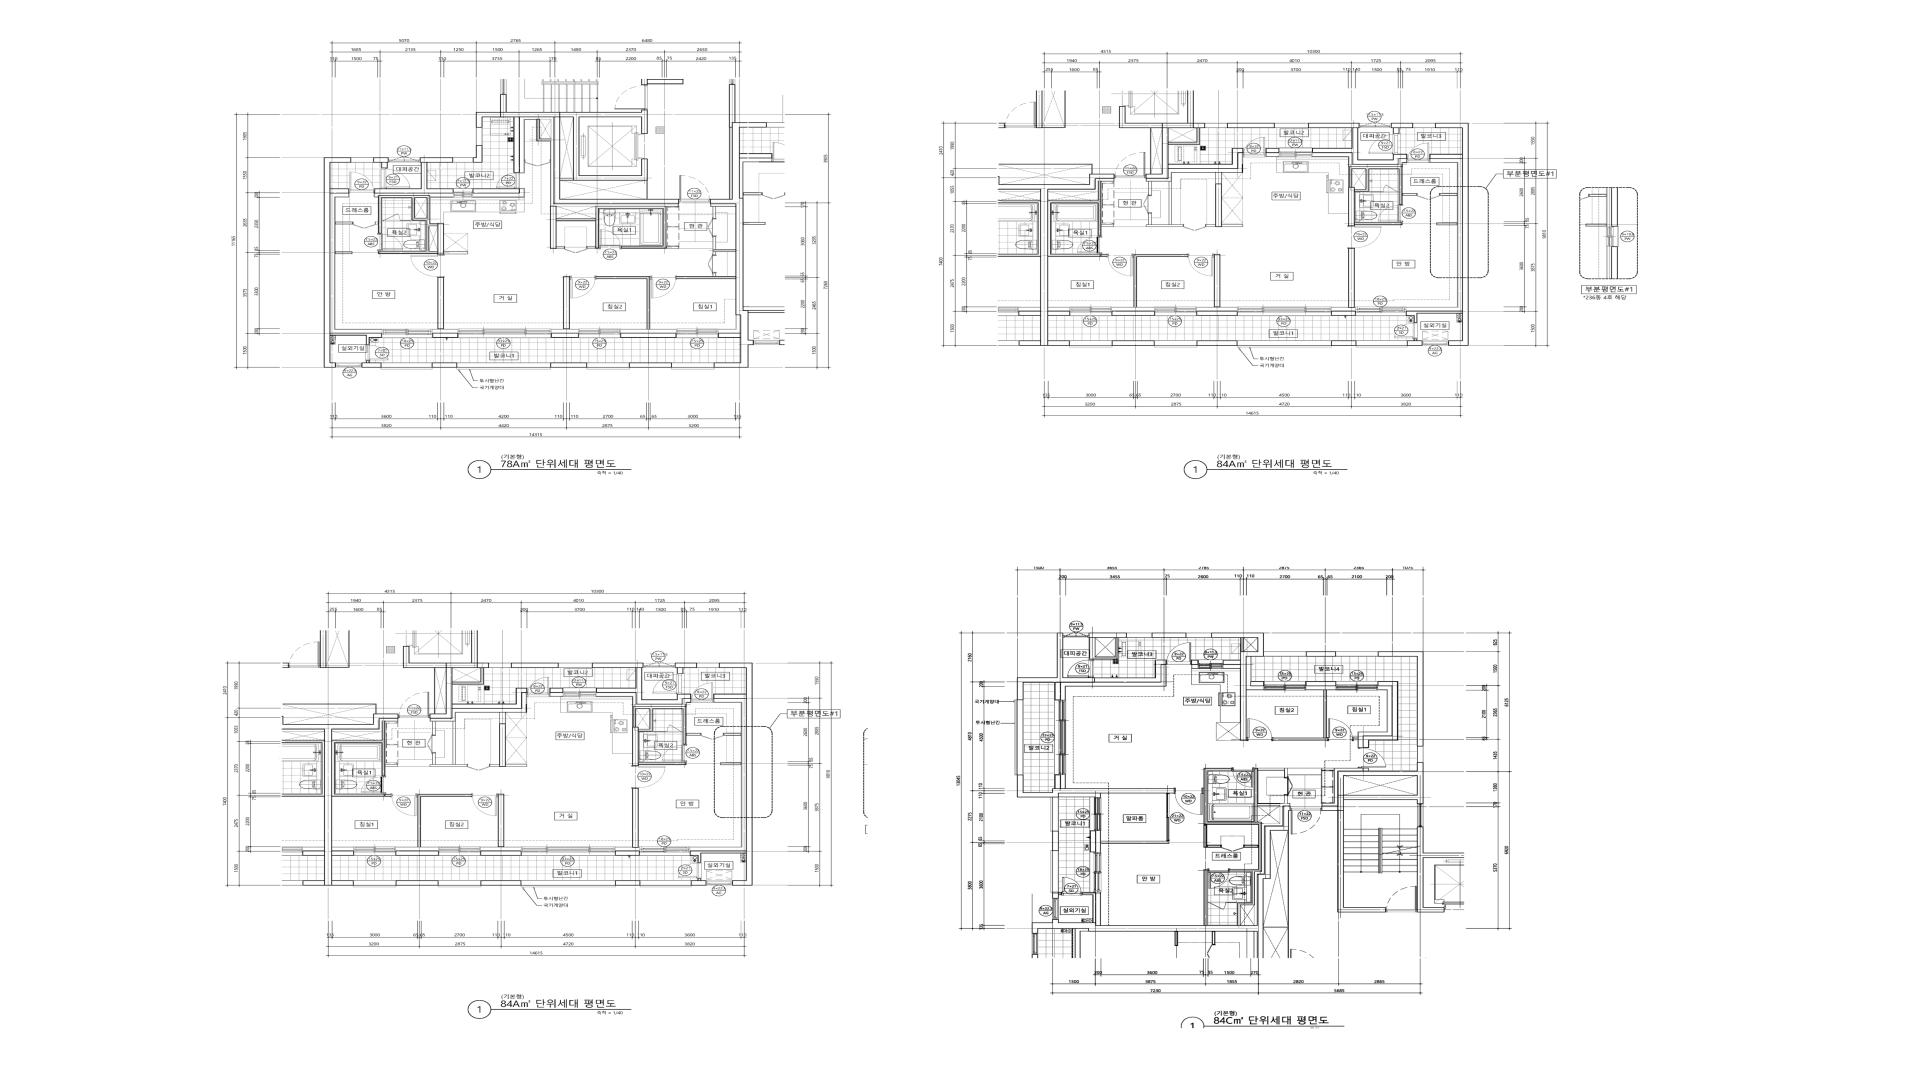door: (1291, 807, 1321, 835), (1114, 152, 1146, 178), (679, 175, 711, 202), (615, 84, 647, 109), (1174, 789, 1204, 815), (398, 692, 430, 717), (410, 255, 444, 277), (1349, 225, 1382, 248), (632, 766, 665, 789), (1369, 133, 1399, 154), (390, 794, 418, 816), (653, 674, 683, 694), (1328, 719, 1354, 741), (1246, 719, 1273, 741), (472, 794, 498, 816), (570, 276, 596, 298), (348, 171, 375, 194), (381, 169, 410, 189), (1166, 642, 1191, 665), (1108, 255, 1134, 276), (1188, 255, 1215, 276), (650, 277, 676, 298), (1358, 748, 1386, 767), (1067, 659, 1095, 678), (526, 676, 550, 696), (1378, 204, 1403, 223), (1244, 137, 1266, 157), (1407, 142, 1429, 162), (1207, 869, 1229, 889), (691, 683, 713, 703), (599, 229, 621, 249), (1077, 236, 1101, 255), (378, 233, 402, 252), (1233, 767, 1254, 787), (662, 745, 686, 762), (361, 777, 385, 794), (1062, 877, 1083, 895), (496, 173, 520, 189), (1395, 323, 1418, 339), (679, 862, 702, 878), (367, 344, 388, 360), (1208, 902, 1237, 910), (1166, 794, 1170, 841), (525, 160, 550, 166), (1416, 193, 1440, 199), (1183, 224, 1207, 231), (1284, 777, 1292, 796), (700, 733, 724, 740), (352, 222, 376, 228), (1221, 845, 1244, 852), (564, 247, 587, 253), (1143, 195, 1151, 214), (427, 735, 435, 753), (708, 255, 716, 273), (708, 219, 716, 236), (382, 214, 400, 222), (1383, 185, 1399, 193), (467, 765, 489, 770), (667, 725, 683, 732)
wall: (1031, 806, 1290, 959), (676, 84, 749, 368), (476, 109, 679, 204), (1321, 762, 1424, 913), (690, 663, 753, 886), (1406, 123, 1469, 345), (520, 117, 679, 206), (1204, 767, 1290, 926), (324, 713, 398, 886), (1040, 174, 1114, 345), (323, 157, 381, 368), (1017, 633, 1166, 700), (402, 646, 526, 719), (1120, 107, 1244, 179), (1406, 158, 1462, 311), (690, 699, 746, 851), (1146, 153, 1244, 227), (330, 194, 381, 334), (430, 692, 526, 766), (1212, 633, 1265, 741), (550, 206, 666, 249), (1378, 651, 1424, 746), (1308, 123, 1407, 165), (592, 663, 691, 704), (1418, 827, 1464, 913), (378, 195, 443, 255), (1017, 775, 1174, 798), (1349, 166, 1403, 227), (632, 707, 686, 766), (375, 157, 454, 194), (1134, 255, 1188, 307), (418, 794, 472, 847), (596, 277, 650, 330), (1273, 690, 1328, 741), (1358, 682, 1398, 748), (1263, 831, 1288, 927), (1321, 767, 1364, 806), (1344, 775, 1418, 795), (596, 694, 691, 707), (1312, 153, 1407, 166), (332, 719, 398, 732), (1048, 179, 1114, 191), (1089, 638, 1118, 659), (472, 189, 525, 198), (1257, 806, 1280, 824), (1168, 128, 1197, 142), (713, 236, 736, 255), (632, 789, 638, 848), (717, 315, 740, 332), (709, 204, 736, 219), (452, 669, 480, 682), (563, 276, 570, 330), (497, 794, 504, 847), (438, 277, 444, 330), (537, 119, 551, 141), (1349, 248, 1354, 307), (375, 194, 454, 198), (1352, 169, 1366, 190), (1216, 183, 1222, 227), (636, 709, 650, 729), (1215, 255, 1220, 307), (1228, 123, 1275, 128), (510, 663, 558, 669), (1089, 831, 1101, 852), (472, 189, 520, 194), (1305, 682, 1336, 690), (675, 663, 698, 674), (1391, 123, 1414, 133), (1112, 311, 1155, 316), (396, 851, 439, 856), (1204, 869, 1208, 926), (620, 330, 676, 334), (620, 334, 676, 338), (500, 724, 505, 766), (396, 881, 438, 886), (1112, 340, 1154, 345), (641, 79, 683, 84), (629, 363, 671, 368), (1196, 311, 1237, 316), (480, 851, 521, 856), (481, 881, 521, 886), (1197, 340, 1237, 345), (1089, 633, 1126, 638), (373, 157, 389, 169), (551, 363, 587, 368), (729, 128, 732, 199), (1153, 633, 1187, 638), (1101, 841, 1170, 844), (472, 145, 483, 162), (1112, 307, 1155, 311), (396, 847, 439, 851), (1196, 307, 1237, 311), (480, 847, 521, 851), (1305, 651, 1336, 657), (361, 360, 381, 368), (551, 332, 579, 338), (615, 851, 640, 856), (433, 332, 458, 338), (1052, 831, 1059, 851), (1332, 311, 1356, 316), (691, 878, 707, 886), (616, 881, 640, 886), (1332, 340, 1356, 345), (433, 363, 456, 368), (551, 330, 579, 334), (1407, 339, 1423, 345), (615, 847, 640, 851), (433, 330, 458, 334), (1332, 307, 1356, 311), (1048, 307, 1069, 311), (332, 847, 353, 851), (1266, 148, 1279, 153), (443, 252, 468, 255), (1191, 661, 1199, 669), (1150, 128, 1151, 174), (434, 669, 435, 713), (1222, 224, 1244, 227), (1266, 153, 1279, 157), (550, 692, 563, 696), (550, 688, 563, 692), (686, 733, 700, 736), (1101, 224, 1114, 227), (1241, 638, 1244, 651), (1052, 893, 1059, 898), (560, 178, 574, 181), (666, 247, 679, 249), (505, 765, 527, 766), (1207, 224, 1216, 227), (587, 247, 596, 249), (556, 247, 564, 249), (1403, 194, 1416, 195), (1370, 191, 1383, 193), (385, 765, 397, 766), (400, 220, 411, 222), (489, 765, 500, 766), (713, 273, 716, 277), (1353, 738, 1358, 740), (1059, 893, 1062, 895), (376, 222, 378, 224), (653, 732, 667, 732)
window: (1237, 307, 1332, 316), (521, 847, 615, 856), (1055, 700, 1065, 775), (458, 330, 551, 338), (1237, 340, 1332, 347), (521, 881, 616, 887), (456, 363, 551, 369), (1015, 700, 1023, 775), (1089, 852, 1101, 893), (1356, 307, 1406, 316), (640, 847, 690, 856), (381, 330, 433, 338), (1089, 798, 1101, 831), (1069, 307, 1112, 316), (353, 847, 396, 856), (1050, 851, 1059, 893), (1155, 307, 1196, 316), (439, 847, 480, 856), (640, 881, 691, 887), (1356, 340, 1407, 347), (381, 363, 433, 369), (1336, 682, 1378, 690), (1263, 682, 1305, 690), (676, 330, 719, 338), (579, 330, 620, 338), (1279, 148, 1312, 157), (1050, 798, 1059, 831), (1154, 340, 1197, 347), (438, 881, 481, 887), (671, 363, 715, 369), (1069, 340, 1112, 347), (353, 881, 396, 887), (587, 363, 629, 369), (563, 688, 596, 696), (1199, 659, 1224, 669), (1336, 651, 1378, 657), (1263, 651, 1305, 657), (558, 663, 592, 669), (1275, 123, 1308, 128), (1063, 632, 1089, 638), (454, 189, 472, 198), (1360, 123, 1391, 128), (644, 662, 675, 667), (388, 157, 419, 162), (1418, 804, 1424, 827), (1052, 898, 1059, 919), (1126, 633, 1153, 638), (335, 363, 361, 368), (1187, 633, 1212, 638), (1205, 123, 1228, 128), (351, 157, 373, 162), (476, 128, 483, 145), (1414, 123, 1435, 128), (1418, 746, 1424, 762), (452, 157, 472, 162), (1423, 342, 1448, 345), (707, 881, 732, 885), (698, 663, 719, 667), (489, 663, 510, 667)
